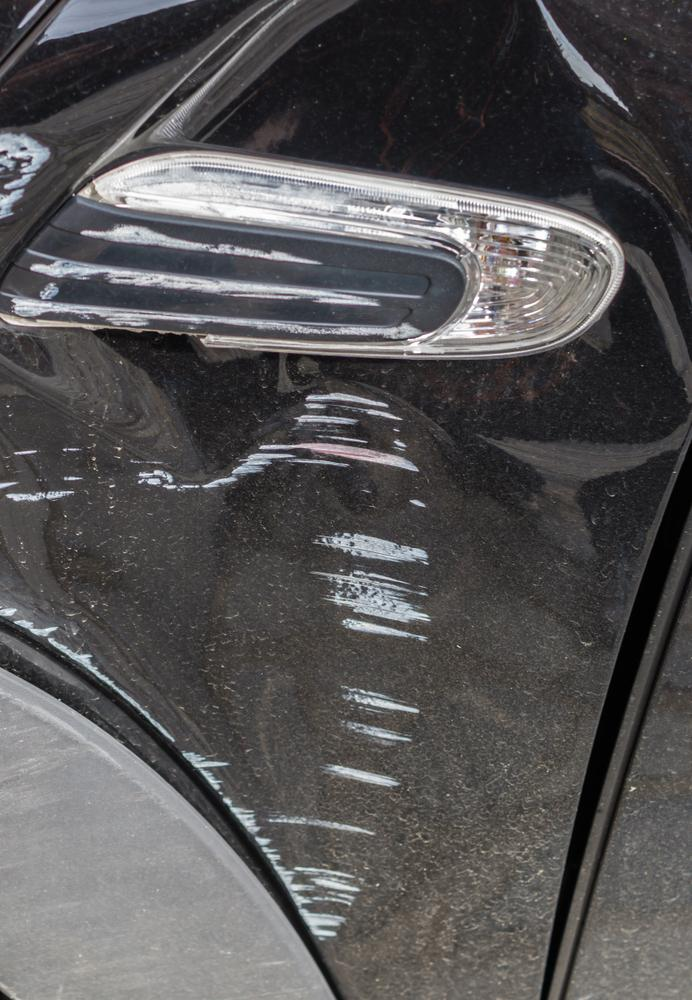scratch: (15, 384, 428, 948), (2, 219, 424, 342)
